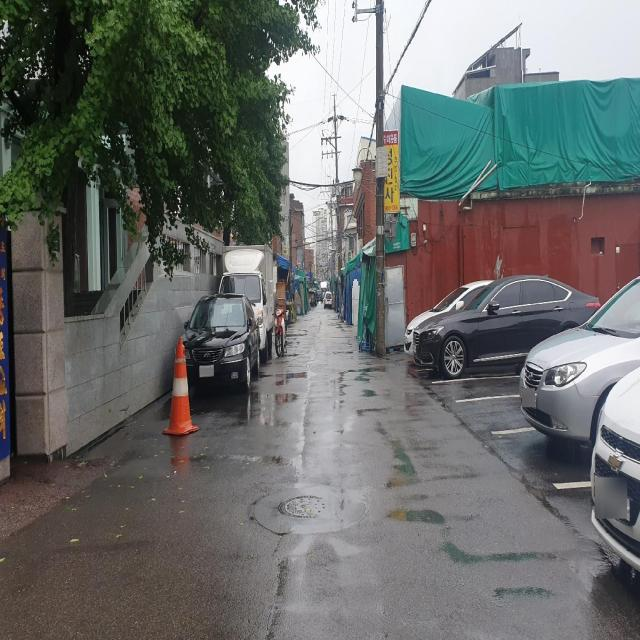barrier ahead at: (164, 330, 196, 453)
car ahead at: (416, 272, 596, 379)
electric pole ahead at: (355, 0, 397, 355)
motorcycle ahead at: (272, 296, 290, 356)
